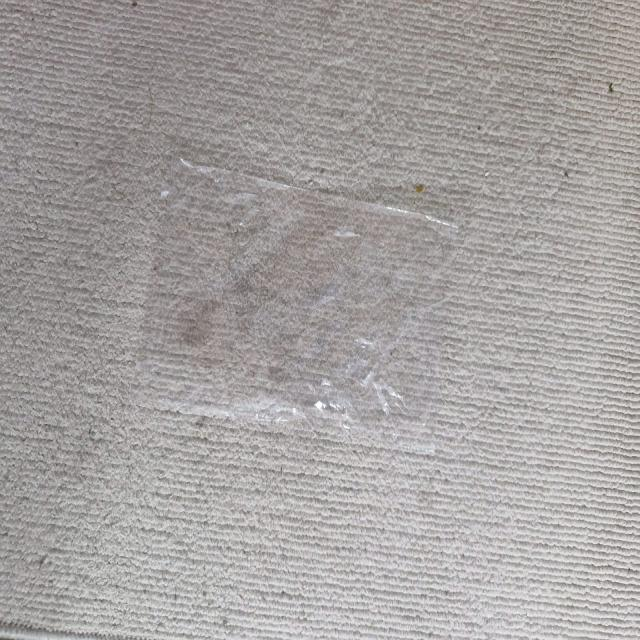plastic bag: (112, 143, 464, 449)
